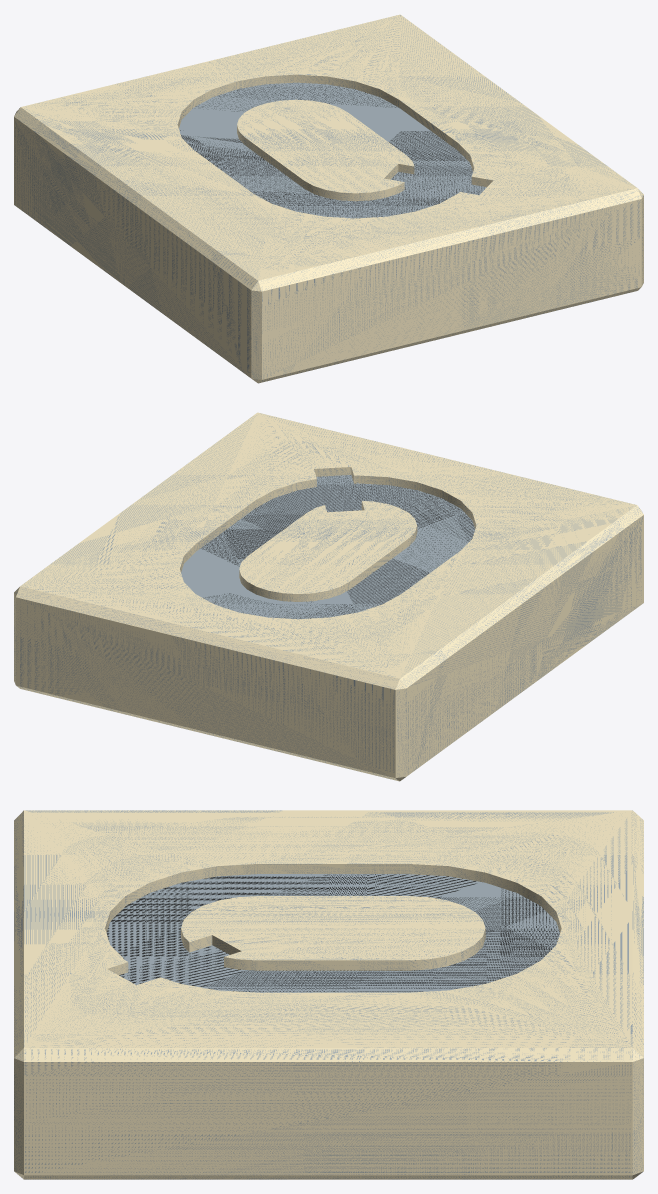
Rendered from Boardgame_Anagram_Tile_Q.fbx.
The picture shows the model from 3 angles, top to bottom: view 1: azimuth 30°, elevation 25°; view 2: azimuth 150°, elevation 25°; view 3: azimuth 270°, elevation 25°; orthographic projection. The views are drawn at different scales.
Parts seen in each view (by area): view 1: Model; view 2: Model; view 3: Model.
Boxes of the visible parts, x1,y1,x2,y2 form: Model: (14,14,643,383); Model: (14,412,643,781); Model: (14,810,643,1179).
Bounding box in the file's own units: 195 × 48.83 × 212.
